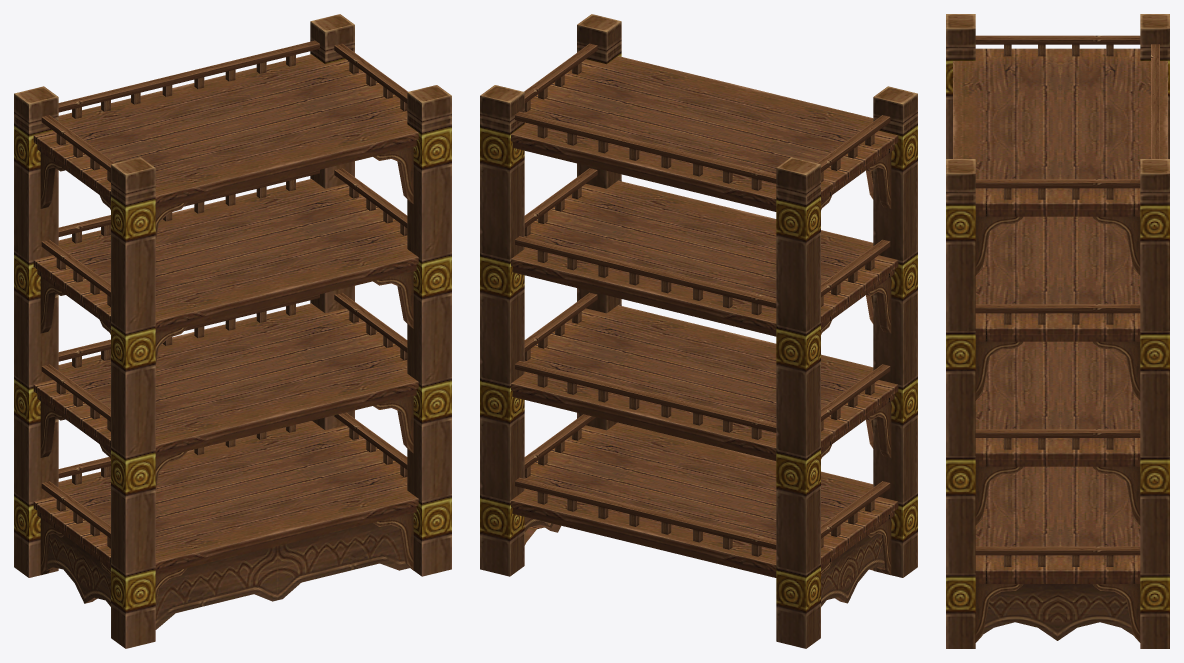
The model's file is Stage_DiXiaCheng_ShuJia01.FBX.
3 views of the same model, side by side, from view 1: azimuth 30°, elevation 25°; view 2: azimuth 150°, elevation 25°; view 3: azimuth 270°, elevation 25° (orthographic).
Visible parts, largest first — view 1: Stage_DiXiaCheng_ShuJia01; view 2: Stage_DiXiaCheng_ShuJia01; view 3: Stage_DiXiaCheng_ShuJia01.
Boxes of the visible parts, x1,y1,x2,y2 form: Stage_DiXiaCheng_ShuJia01: (14,14,451,648); Stage_DiXiaCheng_ShuJia01: (480,14,917,648); Stage_DiXiaCheng_ShuJia01: (946,14,1169,648).
Size of the model in its own units: 266 by 370 by 158.
